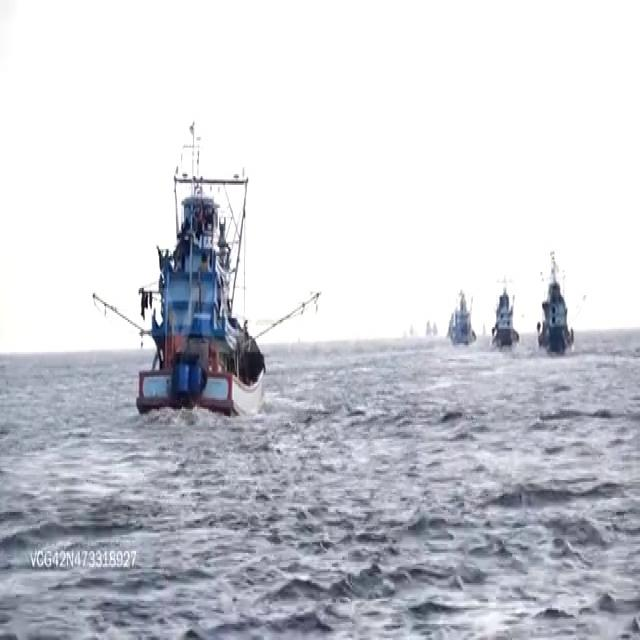fishing boat: (133, 134, 264, 418), (538, 257, 574, 350), (491, 274, 519, 350), (450, 280, 475, 347)
